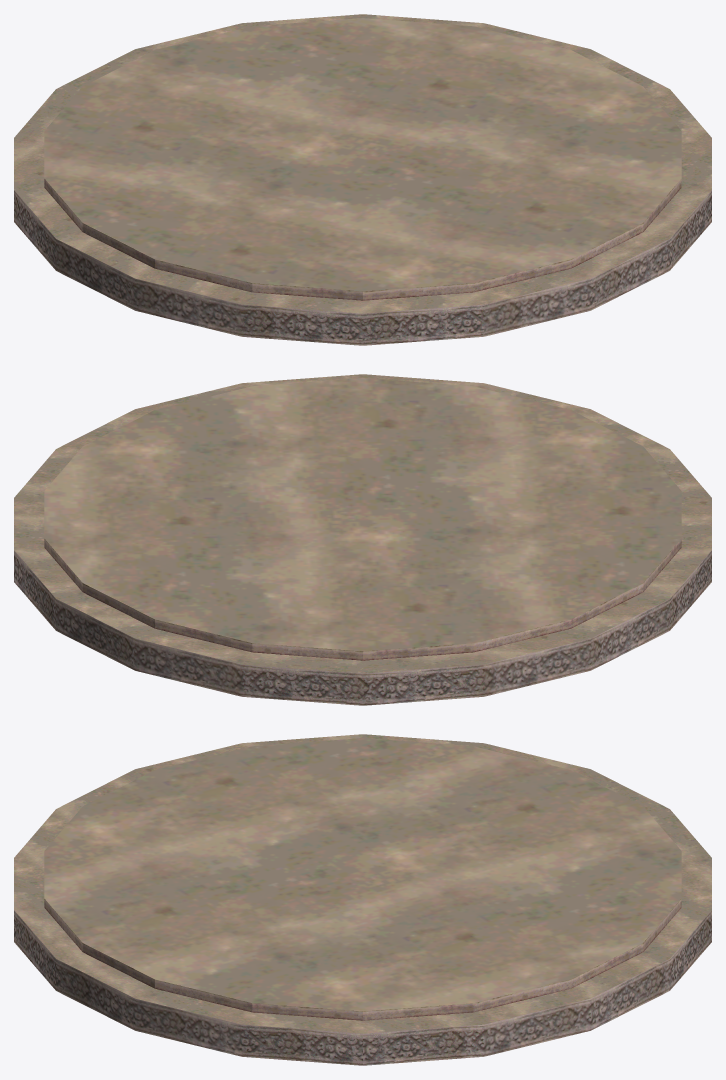
The model's file is PuzzlePlatform2.fbx.
The picture shows the model from 3 angles, top to bottom: view 1: azimuth 30°, elevation 25°; view 2: azimuth 150°, elevation 25°; view 3: azimuth 270°, elevation 25°; orthographic projection.
Parts seen in each view (by area): view 1: Cylinder008; view 2: Cylinder008; view 3: Cylinder008.
Boxes of the visible parts, box(x1,y1,x2,y2) form: Cylinder008: box(14, 14, 711, 345); Cylinder008: box(14, 374, 711, 705); Cylinder008: box(14, 734, 711, 1065).
Size of the model in its own units: 700 by 689 by 45.
